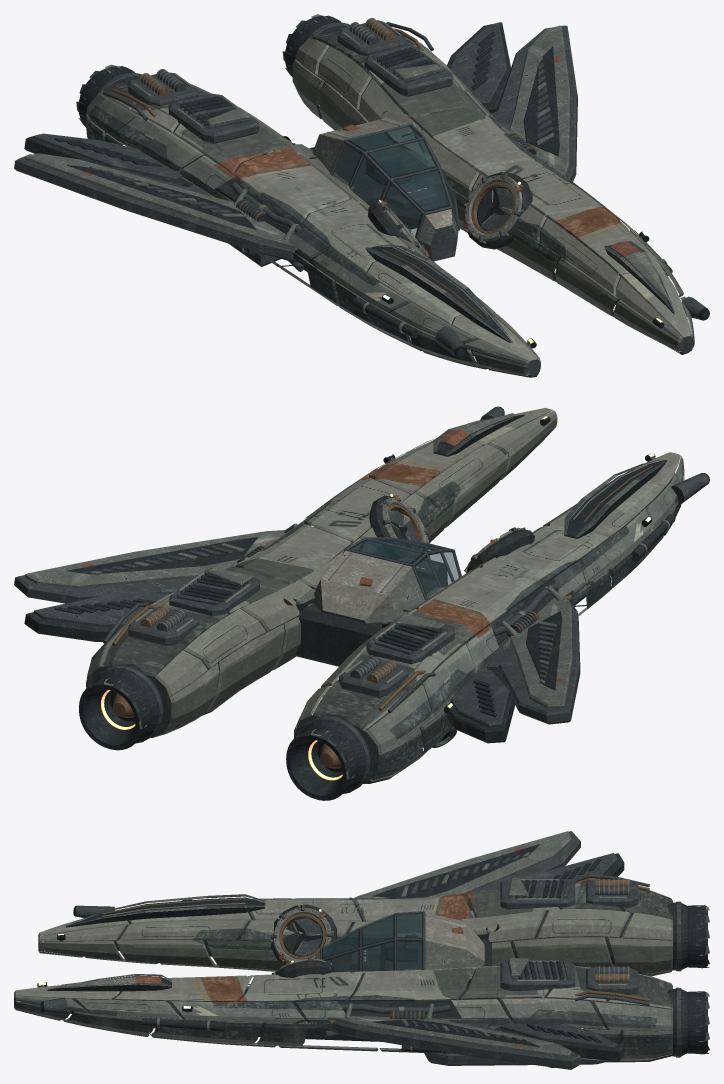
File: sterna.glb
The picture shows the model from 3 angles, top to bottom: view 1: azimuth 30°, elevation 25°; view 2: azimuth 150°, elevation 25°; view 3: azimuth 270°, elevation 25°; orthographic projection. The views are drawn at different scales.
Visible parts, largest first — view 1: Port pressure hull and thermal vanes, Starboard pressure hull and thermal vanes, Transverse pressure bridge and flight deck; view 2: Starboard pressure hull and thermal vanes, Port pressure hull and thermal vanes, Transverse pressure bridge and flight deck; view 3: Starboard pressure hull and thermal vanes, Port pressure hull and thermal vanes, Transverse pressure bridge and flight deck.
Part boxes in pixels (x1,y1,x2,y2): Port pressure hull and thermal vanes: (14, 64, 540, 377); Starboard pressure hull and thermal vanes: (282, 14, 709, 354); Transverse pressure bridge and flight deck: (309, 118, 469, 261); Starboard pressure hull and thermal vanes: (14, 406, 557, 750); Port pressure hull and thermal vanes: (286, 452, 709, 800); Transverse pressure bridge and flight deck: (290, 537, 461, 668); Starboard pressure hull and thermal vanes: (14, 957, 709, 1069); Port pressure hull and thermal vanes: (38, 831, 709, 976); Transverse pressure bridge and flight deck: (314, 911, 491, 980).
Size of the model in its own units: 7.74 by 1.42 by 9.83.
16 materials, 11 textured.
